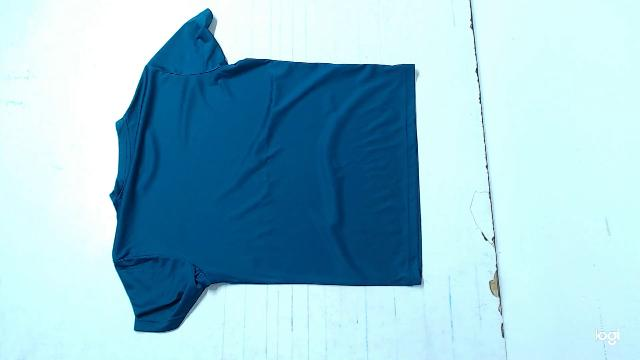new-garment: (110, 9, 421, 332)
